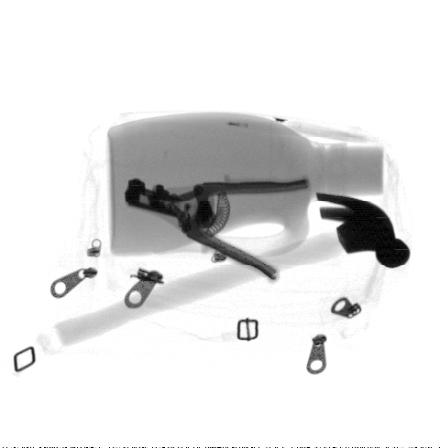Hammer: (53, 191, 413, 349)
Pliers: (123, 174, 313, 285)
